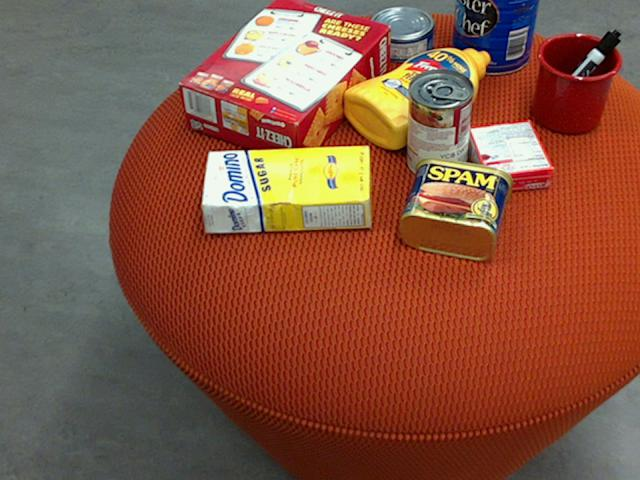cracker_box: (177, 0, 389, 165)
gelatin_box: (467, 122, 554, 193)
large_marker: (537, 27, 620, 118)
master_chef_can: (450, 0, 538, 73)
mug: (532, 32, 621, 132)
mustard_bottle: (342, 47, 490, 148)
potted_meat_can: (398, 155, 511, 260)
sugar_box: (199, 144, 371, 233)
tomato_soup_can: (406, 67, 471, 180)
tuna_fish_can: (367, 5, 433, 60)
